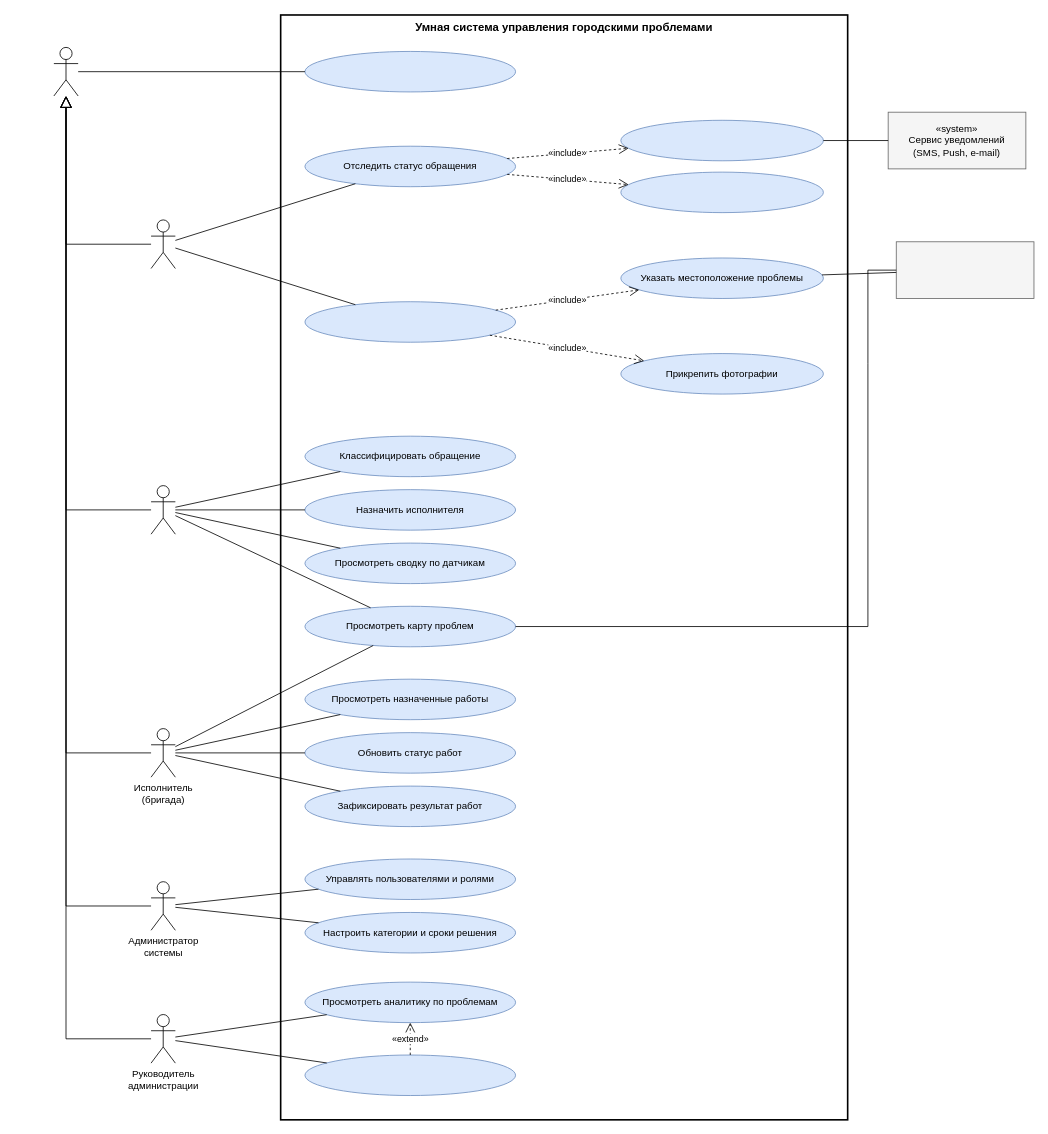
This 1048x1134 diagram has some shape labels left out. The centre of each missing label's shape, as x and y in pixels:
"«system» Картографический сервис" goes at pixel 964 269.
"Авторизоваться" goes at pixel 410 71.
"Житель" goes at pixel 162 244.
"Оператор городской службы" goes at pixel 162 509.
"Оценить результат решения" goes at pixel 721 192.
"Подать обращение о проблеме" goes at pixel 410 321.
"Получать уведомления о статусе" goes at pixel 721 140.
"Пользователь (абстрактный актор)" goes at pixel 65 71.
"Сформировать отчёт" goes at pixel 410 1075.
